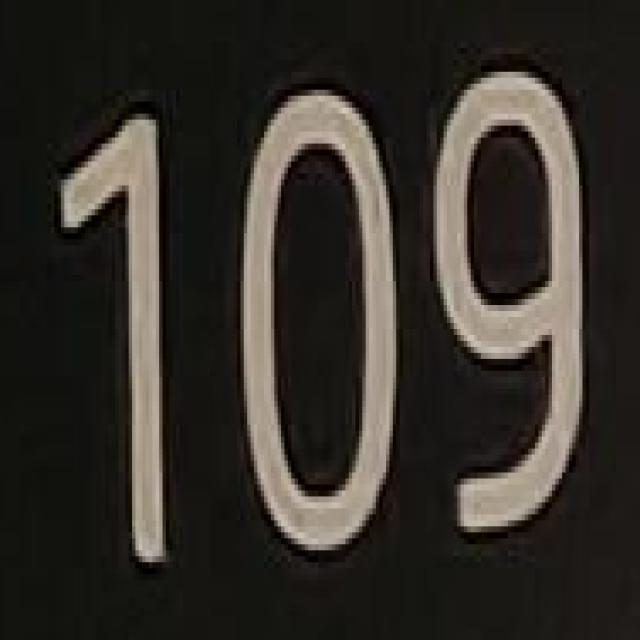character: (430, 55, 591, 554), (236, 87, 401, 568), (52, 103, 178, 576)
